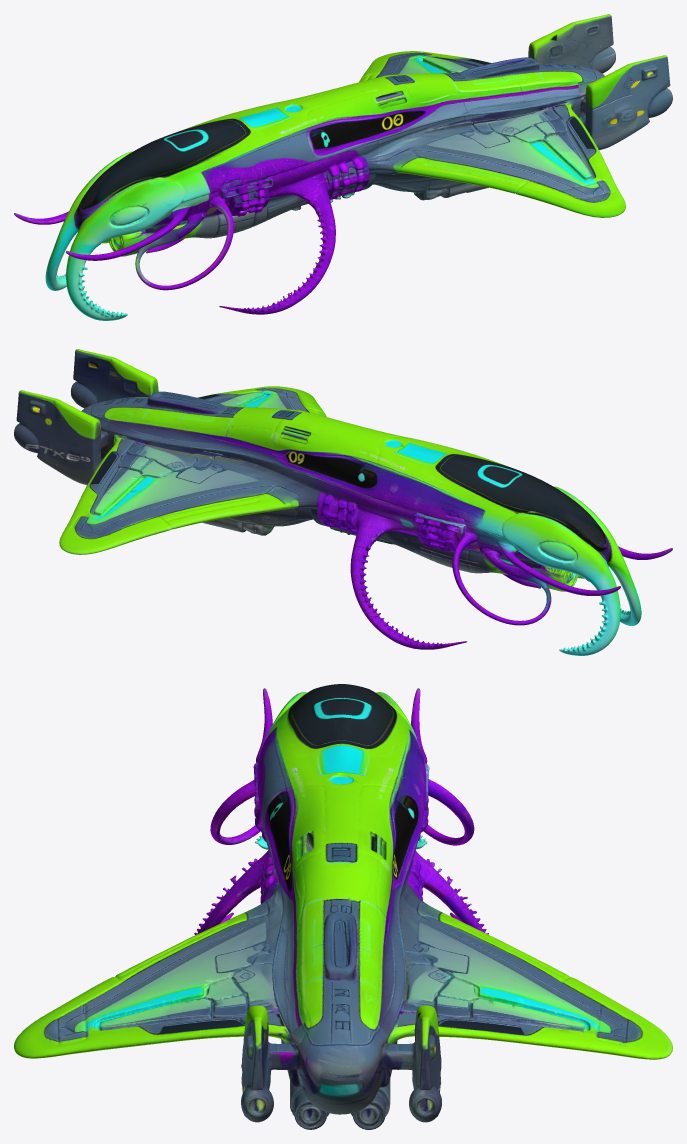
Rendered from Interceptor_Needle.glb.
3 renders of one model, top to bottom at view 1: azimuth 30°, elevation 25°; view 2: azimuth 150°, elevation 25°; view 3: azimuth 270°, elevation 25°, orthographic. The views are drawn at different scales.
Bounding box in the file's own units: 1.9 × 0.4755 × 1.22.
1 material, 1 textured.
